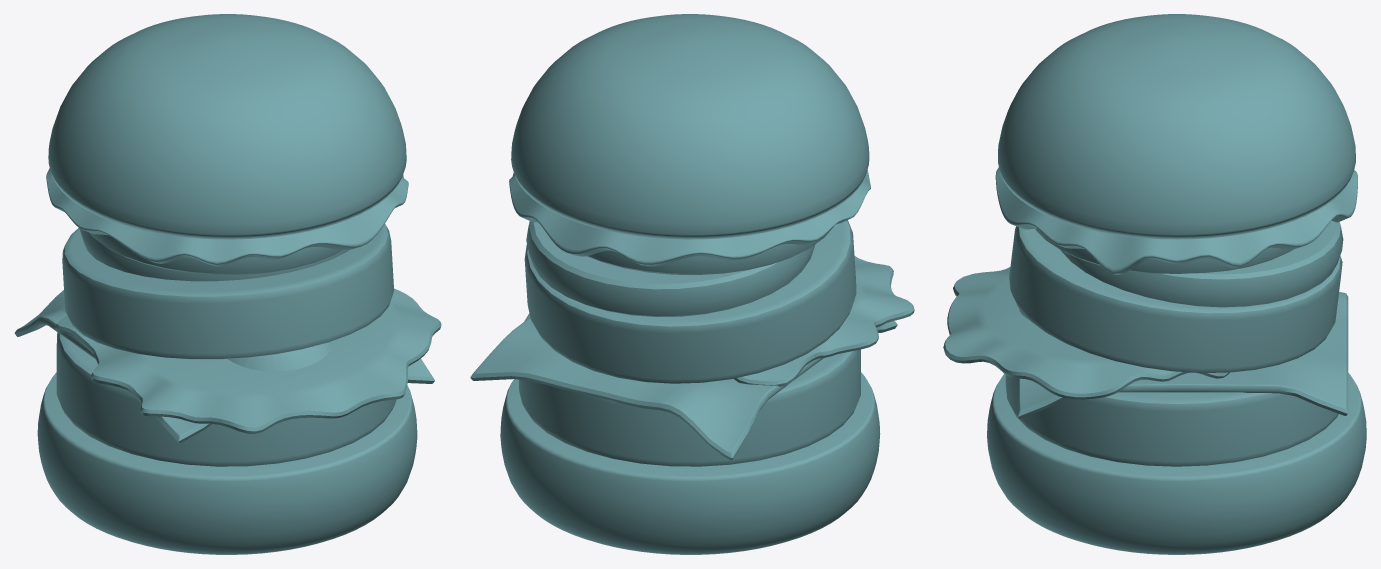
File: SM_BURGER_3.fbx
The picture shows the model from 3 angles, left to right: view 1: azimuth 30°, elevation 25°; view 2: azimuth 150°, elevation 25°; view 3: azimuth 270°, elevation 25°; orthographic projection.
Visible parts, largest first — view 1: SM_BURGER_3; view 2: SM_BURGER_3; view 3: SM_BURGER_3.
Boxes of the visible parts, box(x1,y1,x2,y2) form: SM_BURGER_3: box(14, 14, 441, 554); SM_BURGER_3: box(470, 14, 914, 554); SM_BURGER_3: box(943, 14, 1366, 554).
Size of the model in its own units: 22.65 by 29.44 by 25.24.
